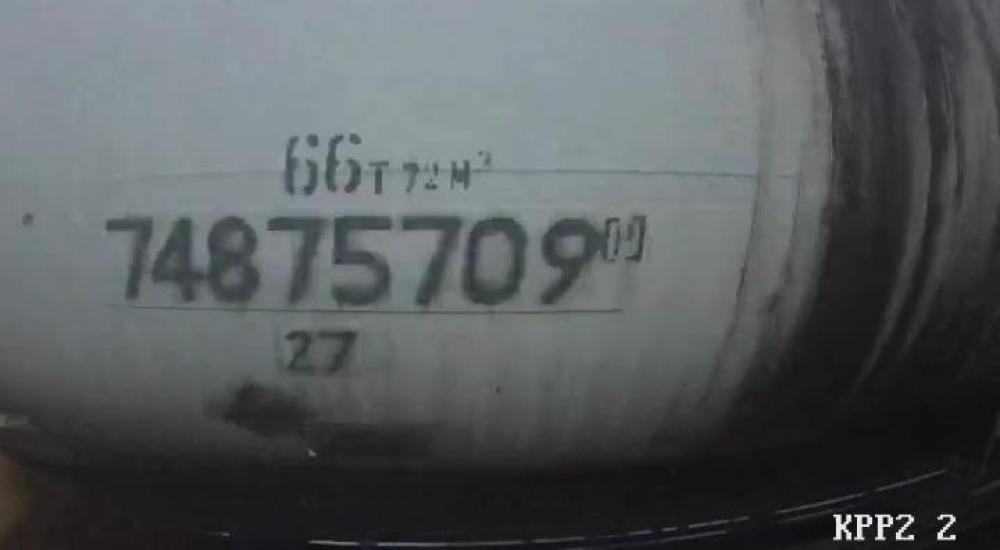Wagon-number: (99, 208, 600, 310)
